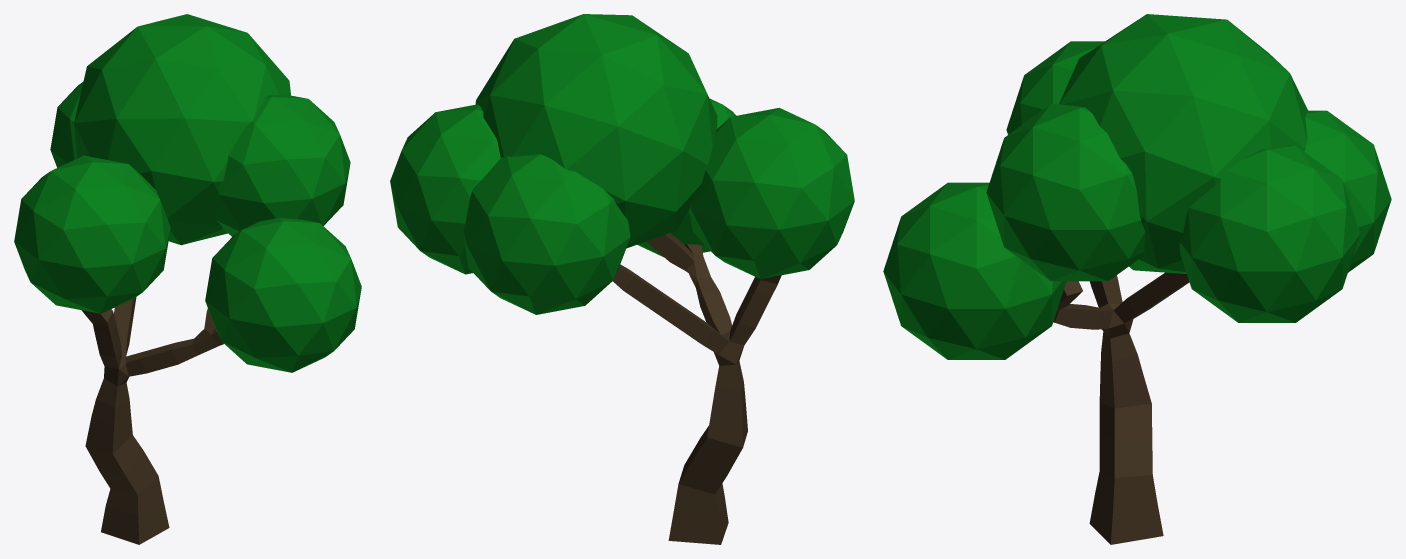
The model's file is arbol_1.fbx.
3 views of the same model, side by side, from view 1: azimuth 30°, elevation 25°; view 2: azimuth 150°, elevation 25°; view 3: azimuth 270°, elevation 25° (orthographic). The views are drawn at different scales.
Visible parts, largest first — view 1: hojas, tronco; view 2: hojas, tronco; view 3: hojas, tronco.
Boxes of the visible parts, x1=… form: hojas: x1=14, y1=14, x2=361, y2=372; tronco: x1=82, y1=297, x2=223, y2=544; hojas: x1=390, y1=14, x2=854, y2=314; tronco: x1=613, y1=233, x2=781, y2=544; hojas: x1=883, y1=14, x2=1391, y2=359; tronco: x1=1053, y1=272, x2=1189, y2=544.
Size of the model in its own units: 196 by 265 by 223.
